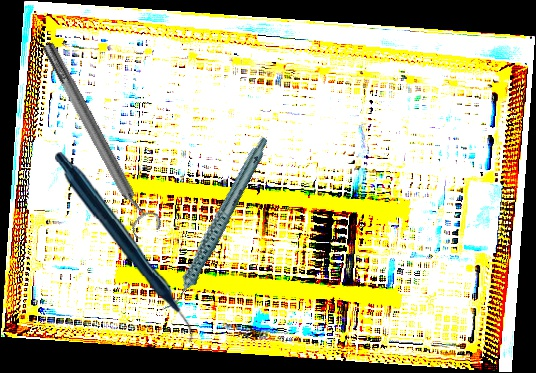Fixation Ring: (34, 36, 165, 242)
Handpiece: (131, 135, 301, 315), (55, 149, 193, 346)
